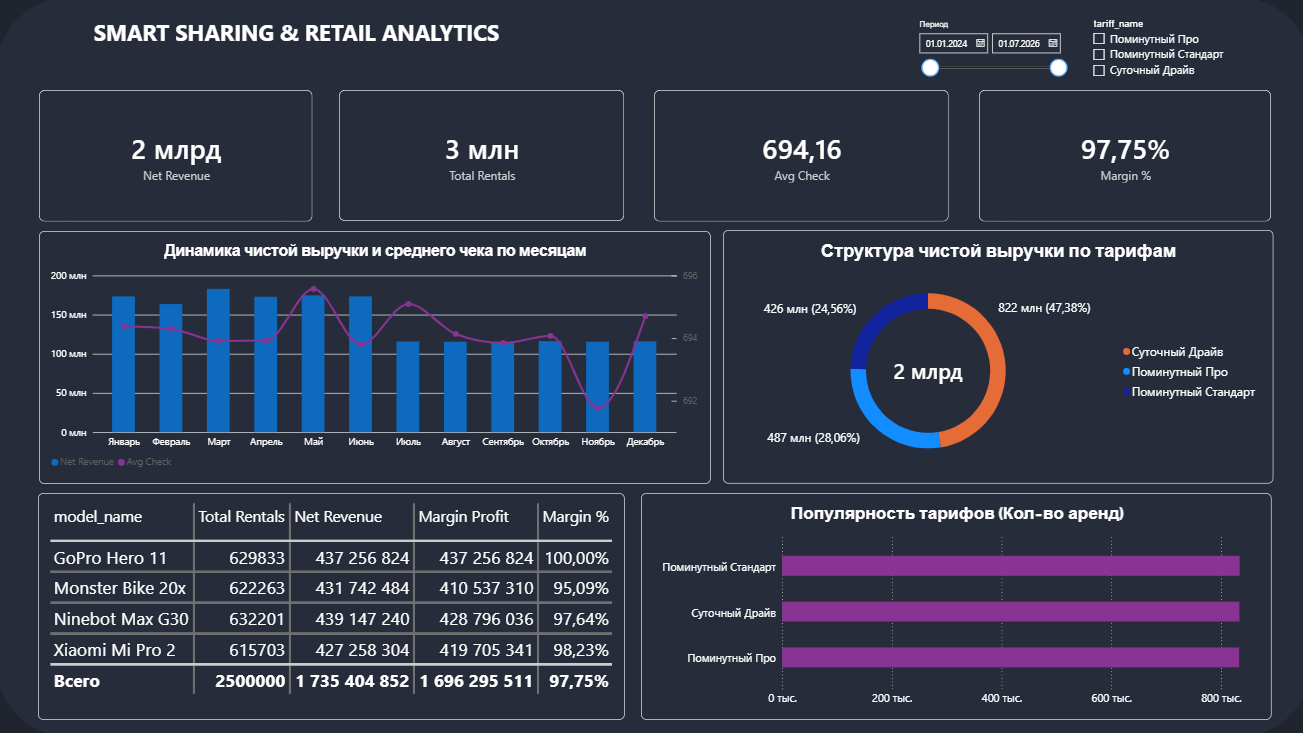

What the dashboard file says about the page in this screenshot:
{"tool":"powerbi","page":{"name":"Страница 1","canvas":[1920,1080],"ordinal":0},"visuals":[{"type":"shape","box":[0,0,1919.6,1080.4],"z":0},{"type":"textbox","box":[109.7,29,658.1,64.5],"z":1000},{"type":"shape","box":[62.5,135.7,400,192.9],"z":2000},{"type":"shape","box":[500,135.7,416.1,191.1],"z":3000},{"type":"shape","box":[960.7,135.7,430.4,191.1],"z":4000},{"type":"shape","box":[1433.9,133.9,426.8,192.9],"z":5000},{"type":"cardVisual","fields":{"Data":["_Measures.Net Revenue"]},"box":[62.5,135.7,400,192.9],"z":6000},{"type":"cardVisual","fields":{"Data":["_Measures.Total Rentals"]},"box":[500,135.7,416.1,191.1],"z":7000},{"type":"cardVisual","fields":{"Data":["_Measures.Avg Check"]},"box":[960.7,135.7,430.4,192.9],"z":8000},{"type":"cardVisual","fields":{"Data":["_Measures.Margin %"]},"box":[1433.9,135.7,426.8,192.9],"z":9000},{"type":"slicer","fields":{"Values":["dim_tariffs.tariff_name"]},"box":[1592.9,30.4,253.6,96.4],"z":10000},{"type":"slicer","fields":{"Values":["fact_rentals.rental_end"]},"box":[1339.3,32.1,226.8,94.6],"z":11000},{"type":"lineStackedColumnComboChart","title":"Динамика чистой выручки и среднего чека по месяцам","fields":{"Y":["_Measures.Net Revenue"],"Y2":["_Measures.Avg Check"],"Category":["fact_rentals.rental_end.Изменение.Иерархия дат.Месяц"]},"box":[63,340.7,979.6,368.5],"z":12000},{"type":"donutChart","title":"Структура чистой выручки по тарифам","fields":{"Category":["dim_tariffs.tariff_name"],"Y":["_Measures.Net Revenue"]},"box":[1060,340,802.5,370],"z":13000},{"type":"tableEx","fields":{"Values":["dim_models.model_name","_Measures.Total Rentals","_Measures.Net Revenue","_Measures.Margin Profit","_Measures.Margin %"]},"box":[61.1,724.1,855.6,331.5],"z":14000},{"type":"clusteredBarChart","title":"Популярность тарифов (Кол-во аренд)","fields":{"Category":["dim_tariffs.tariff_name"],"Y":["_Measures.Total Rentals"]},"box":[940.7,724.1,920.4,331.5],"z":15000}]}

Visuals, with their boxes in screenshot pixels (x1, y1, x2, y2), scaled from the page's 1920x1080 canvas onto the 1303x733 screenshot:
shape: region(0, 0, 1302, 732)
textbox: region(74, 20, 521, 63)
shape: region(42, 92, 314, 223)
shape: region(339, 92, 622, 222)
shape: region(652, 92, 944, 222)
shape: region(973, 91, 1263, 222)
cardVisual - _Measures.Net Revenue: region(42, 92, 314, 223)
cardVisual - _Measures.Total Rentals: region(339, 92, 622, 222)
cardVisual - _Measures.Avg Check: region(652, 92, 944, 223)
cardVisual - _Measures.Margin %: region(973, 92, 1263, 223)
slicer - dim_tariffs.tariff_name: region(1081, 21, 1253, 86)
slicer - fact_rentals.rental_end: region(909, 22, 1063, 86)
"Динамика чистой выручки и среднего чека по месяцам" lineStackedColumnComboChart: region(43, 231, 708, 481)
"Структура чистой выручки по тарифам" donutChart: region(719, 231, 1264, 482)
tableEx - dim_models.model_name x _Measures.Total Rentals: region(41, 491, 622, 716)
"Популярность тарифов (Кол-во аренд)" clusteredBarChart: region(638, 491, 1263, 716)
